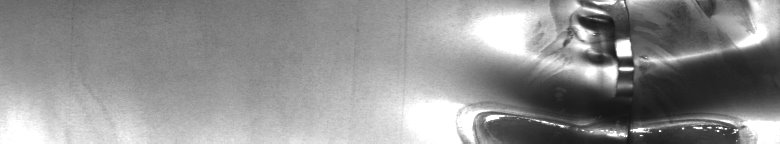ke: (458, 4, 776, 136)
